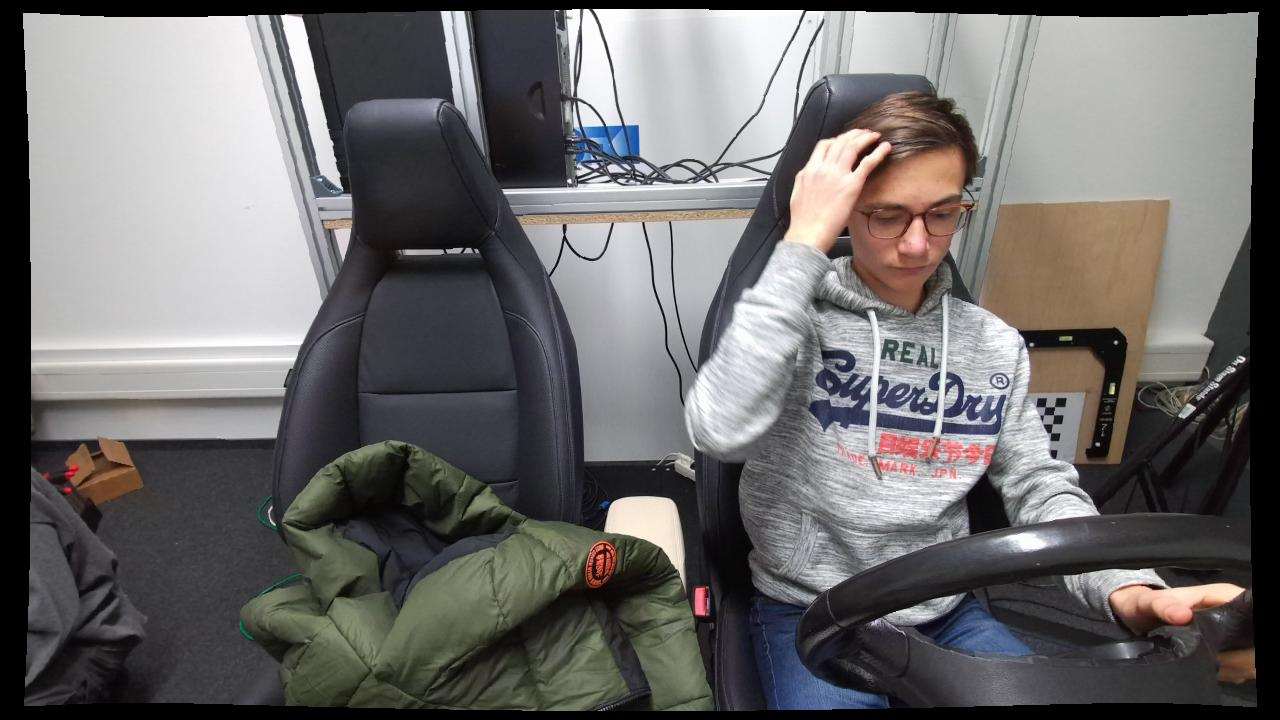Distracted: (682, 87, 1051, 716)
